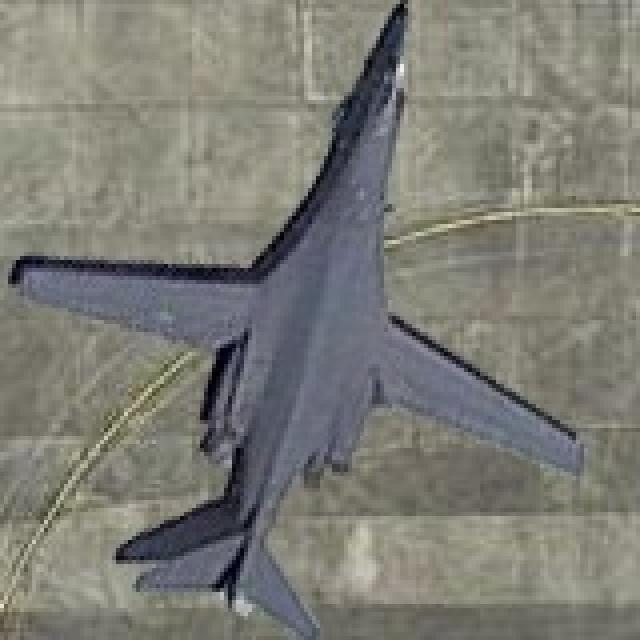B-1_TopDown: (4, 0, 588, 636)
